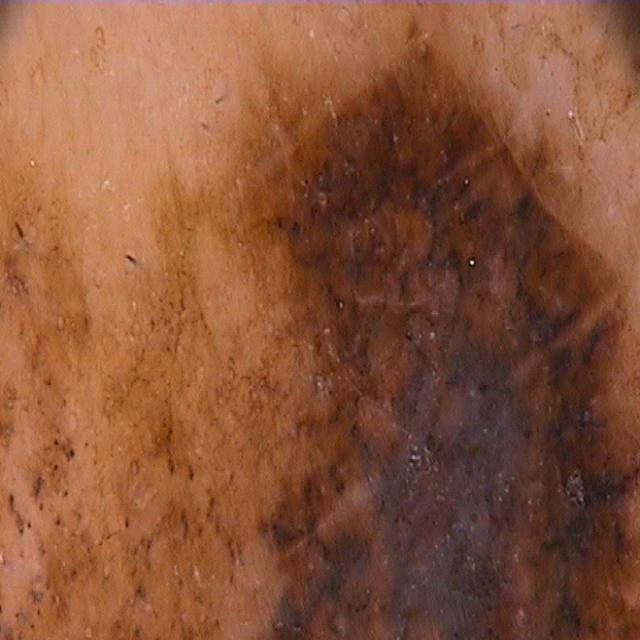Melanoma: (0, 34, 640, 640)
